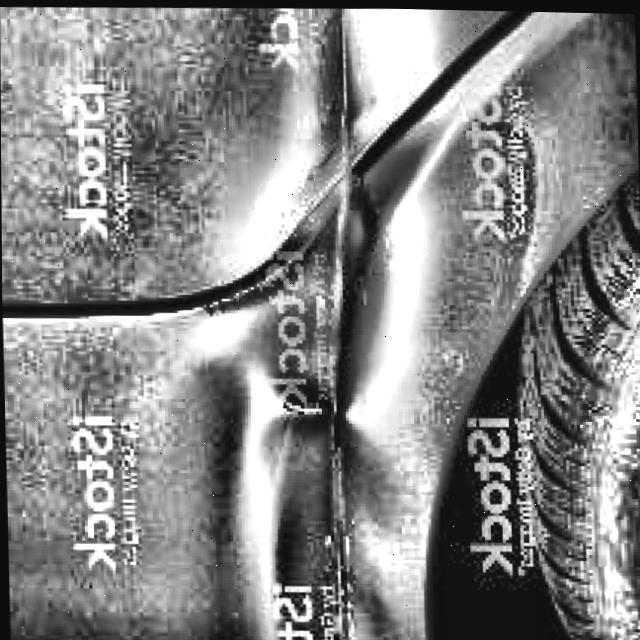door_dent: (225, 132, 388, 640)
